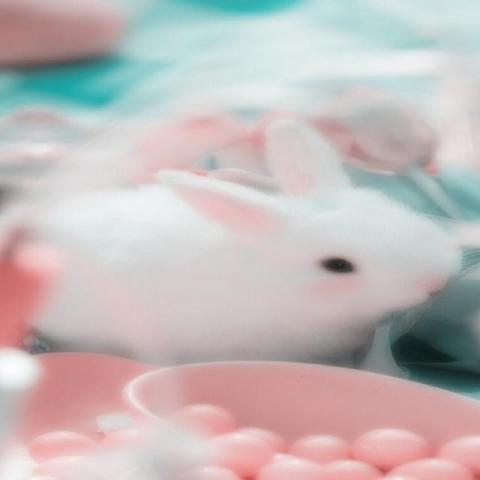small_animal: (9, 116, 464, 368)
